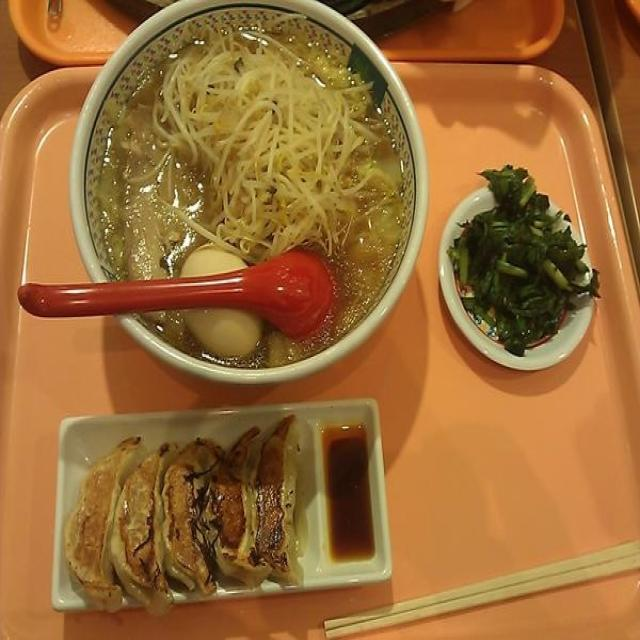带馅早点: (60, 420, 321, 594)
面条主食: (76, 3, 426, 391)
